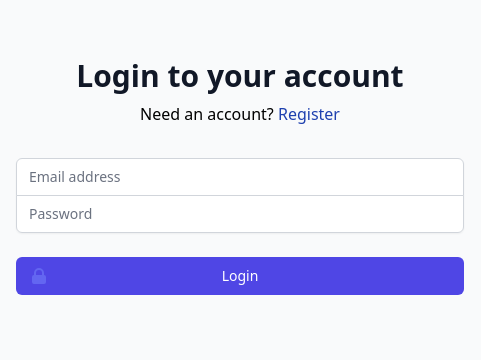
Test case: LoginPage › renders error after unsuccessful login
Step 1. Type "nearbycoder@gmail.com" into the field labelled "Email address" → coordinates (240, 176), box [16,158,464,196]
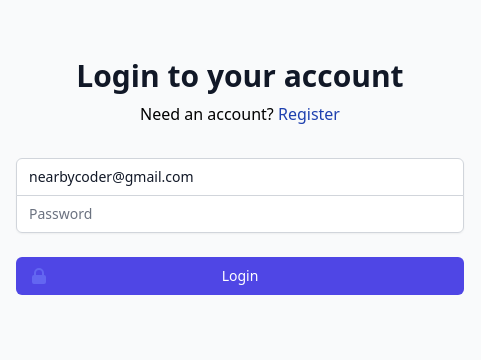
Step 2. Type "blah" into the password field labelled "Password" → coordinates (240, 214), box [16,194,464,232]
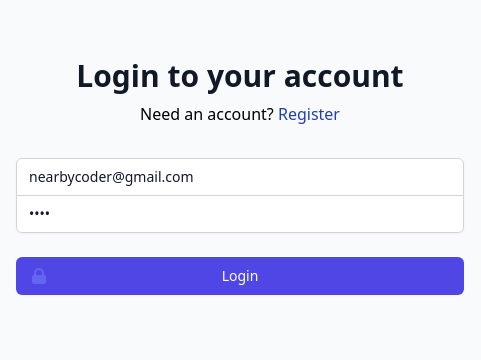
Step 3. Click the button "Login" → coordinates (240, 276), box [16,256,464,294]
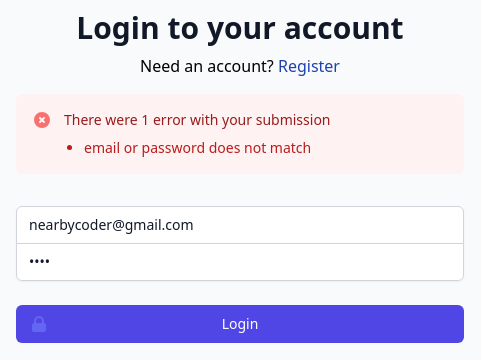
Now the list item "email or password does not match" is shown, box [84,138,330,158]
